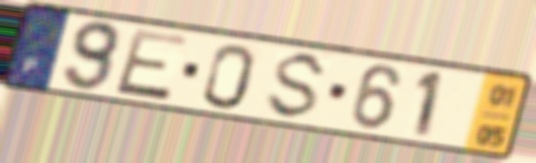0: (201, 42, 261, 111)
1: (410, 69, 447, 140)
6: (349, 63, 405, 131)
9: (59, 19, 122, 95)
E: (111, 27, 192, 104)
S: (261, 50, 332, 122)
